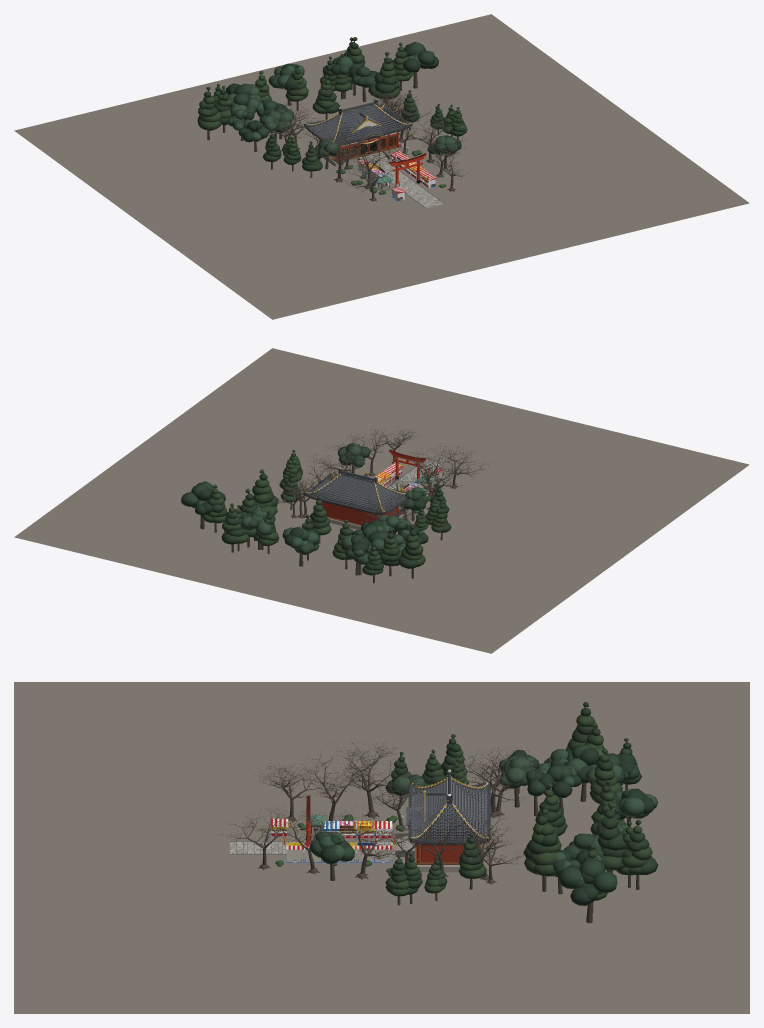
Rendered from hatsumode_shrine_bg.glb.
3 renders of one model, top to bottom at view 1: azimuth 30°, elevation 25°; view 2: azimuth 150°, elevation 25°; view 3: azimuth 270°, elevation 25°, orthographic. The views are drawn at different scales.
Parts seen in each view (by area): view 1: Ground, Haiden_Roof, Haiden, SandoPath, Sugi29_Leaves, Broadleaf28_Leaves, Sugi25_Leaves, BareTree2, Broadleaf22_Leaves, Sugi12_Leaves, Broadleaf9_Leaves, BareTree0; view 2: Ground, Haiden_Roof, Haiden, Broadleaf28_Leaves, Broadleaf22_Leaves, BareTree2, Sugi25_Leaves, Sugi29_Leaves, Sugi17_Leaves, Broadleaf23_Leaves, Broadleaf_R_Leaves, Sugi31_Leaves (+2 smaller); view 3: Ground, Haiden_Roof, Broadleaf28_Leaves, Sugi29_Leaves, Haiden, BareTree2, Sugi26_Leaves, Sugi17_Leaves, Broadleaf22_Leaves, Broadleaf_R_Leaves, SandoPath, BareTree5 (+21 smaller).
Part boxes in pixels (left/top/right/bottom): Ground: left=14, top=14, right=749, bottom=319; Haiden_Roof: left=304, top=98, right=412, bottom=145; Haiden: left=313, top=132, right=403, bottom=166; SandoPath: left=375, top=161, right=444, bottom=208; Sugi29_Leaves: left=368, top=52, right=400, bottom=99; Broadleaf28_Leaves: left=403, top=42, right=438, bottom=72; Sugi25_Leaves: left=197, top=87, right=221, bottom=130; BareTree2: left=304, top=130, right=371, bottom=182; Broadleaf22_Leaves: left=268, top=63, right=306, bottom=90; Sugi12_Leaves: left=312, top=75, right=339, bottom=113; Broadleaf9_Leaves: left=260, top=111, right=293, bottom=133; BareTree0: left=333, top=138, right=394, bottom=189; Ground: left=14, top=348, right=749, bottom=653; Haiden_Roof: left=304, top=467, right=407, bottom=514; Haiden: left=321, top=502, right=404, bottom=529; Broadleaf28_Leaves: left=181, top=481, right=225, bottom=514; Broadleaf22_Leaves: left=282, top=526, right=318, bottom=554; BareTree2: left=401, top=462, right=464, bottom=511; Sugi25_Leaves: left=398, top=525, right=425, bottom=568; Sugi29_Leaves: left=252, top=469, right=278, bottom=515; Sugi17_Leaves: left=221, top=503, right=244, bottom=544; Broadleaf23_Leaves: left=240, top=506, right=275, bottom=535; Broadleaf_R_Leaves: left=337, top=443, right=370, bottom=467; Sugi31_Leaves: left=201, top=484, right=227, bottom=523; Ground: left=14, top=682, right=749, bottom=1013; Haiden_Roof: left=408, top=769, right=490, bottom=845; Broadleaf28_Leaves: left=558, top=859, right=617, bottom=905; Sugi29_Leaves: left=523, top=809, right=561, bottom=876; Haiden: left=395, top=833, right=482, bottom=872; BareTree2: left=333, top=740, right=405, bottom=819; Sugi26_Leaves: left=597, top=802, right=626, bottom=870; Sugi17_Leaves: left=621, top=820, right=658, bottom=874; Broadleaf22_Leaves: left=600, top=788, right=657, bottom=819; Broadleaf_R_Leaves: left=309, top=831, right=354, bottom=864; SandoPath: left=230, top=841, right=395, bottom=854; BareTree5: left=326, top=805, right=406, bottom=879.
Size of the model in its own units: 160 by 18.68 by 150.
